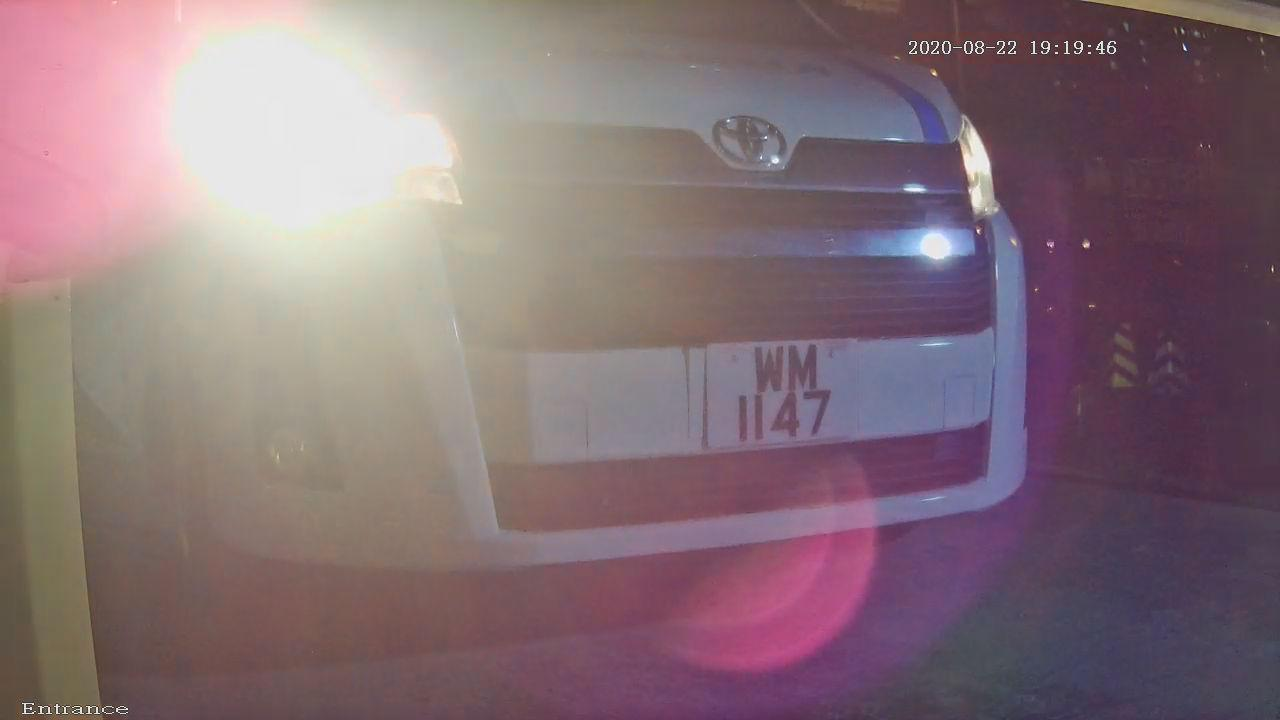Car: (29, 23, 1189, 666)
License Plate: (663, 306, 869, 476)
